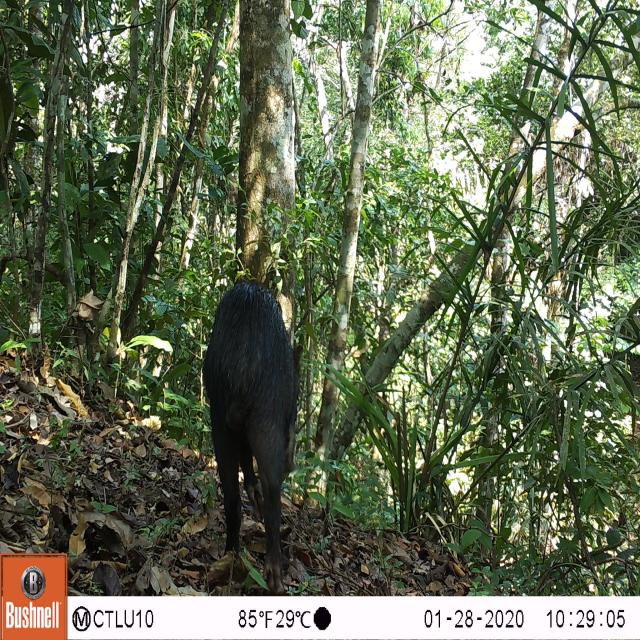White-lipped Peccary: (200, 268, 304, 594)
